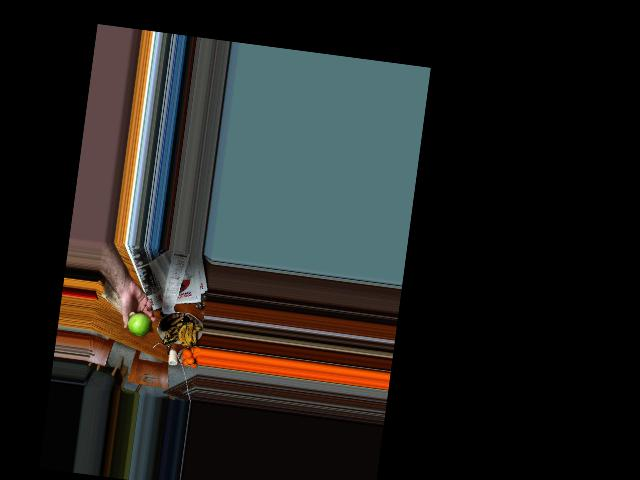apple: (126, 309, 154, 339)
